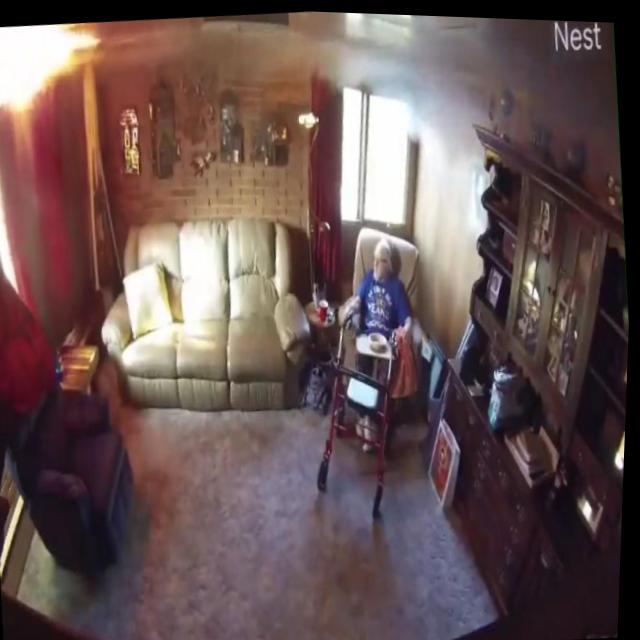fire: (0, 19, 109, 117)
